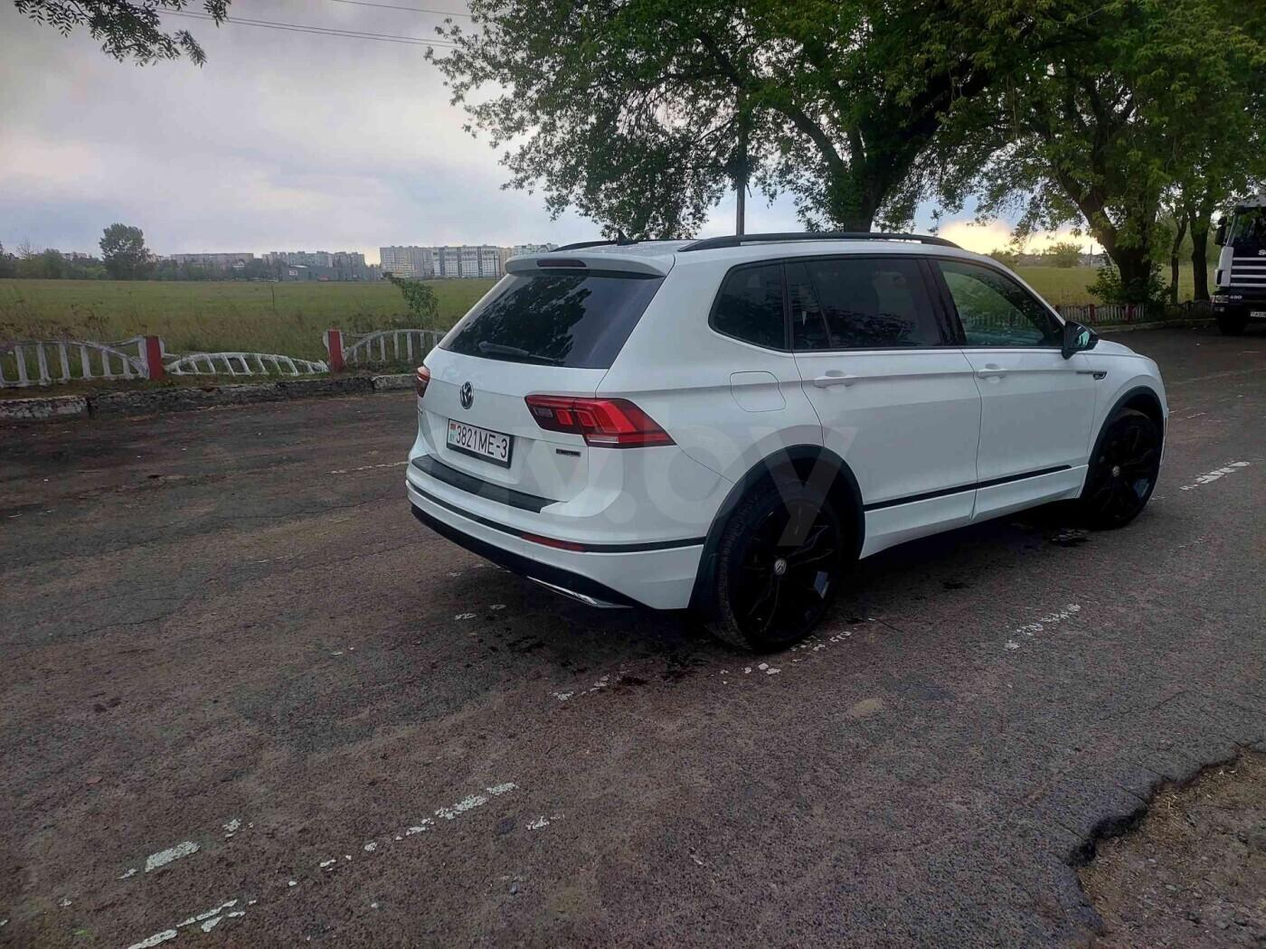Tiguan_2016-2021: (400, 234, 1168, 643)
